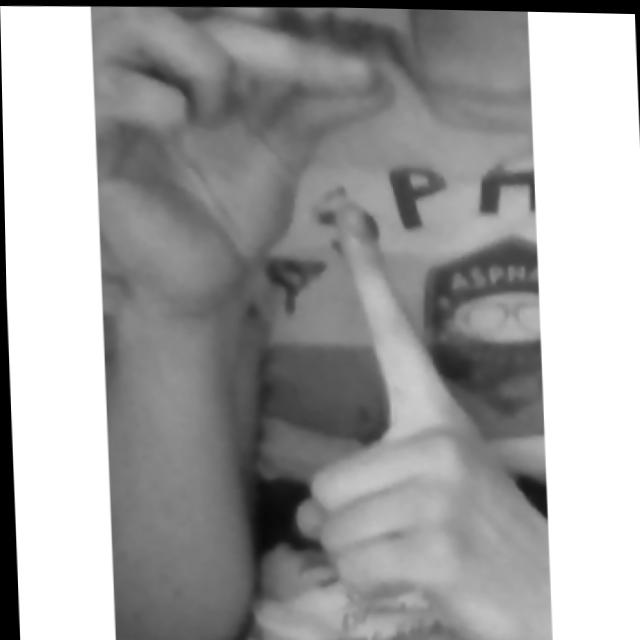I-: (92, 2, 554, 640)
